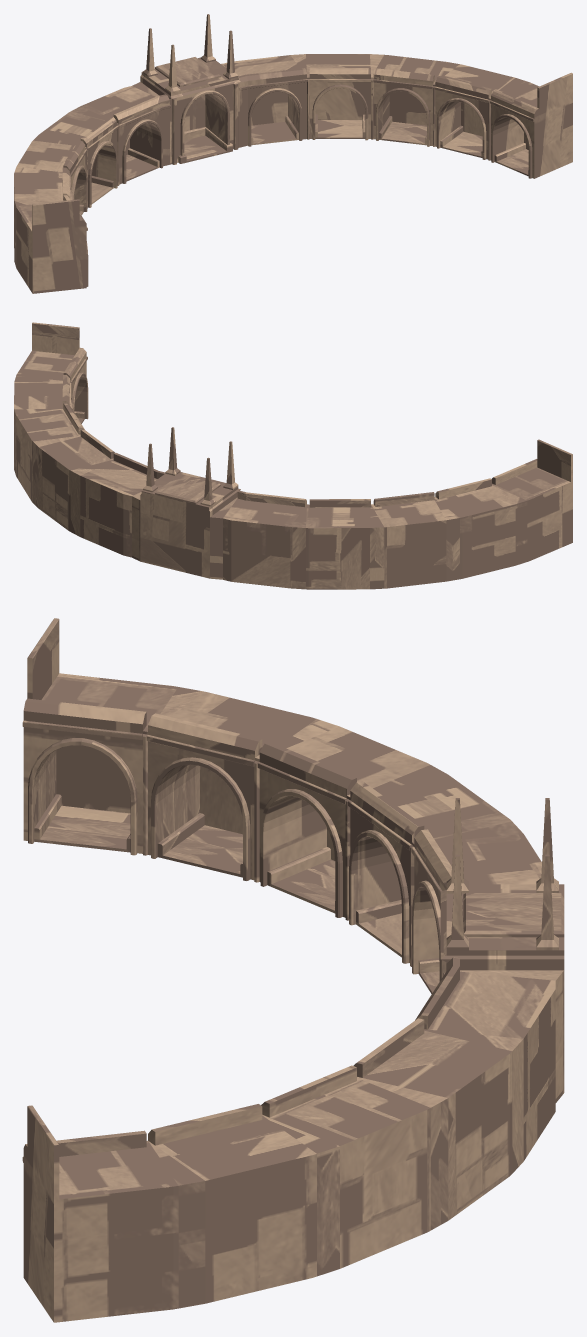
File: stadium.fbx
3 renders of one model, top to bottom at view 1: azimuth 30°, elevation 25°; view 2: azimuth 150°, elevation 25°; view 3: azimuth 270°, elevation 25°, orthographic. The views are drawn at different scales.
Visible parts, largest first — view 1: stadium; view 2: stadium; view 3: stadium.
Boxes of the visible parts, box(x1,y1,x2,y2) form: stadium: box(14, 14, 572, 293); stadium: box(14, 322, 572, 589); stadium: box(22, 618, 564, 1322).
Size of the model in its own units: 2072 by 425 by 899.
